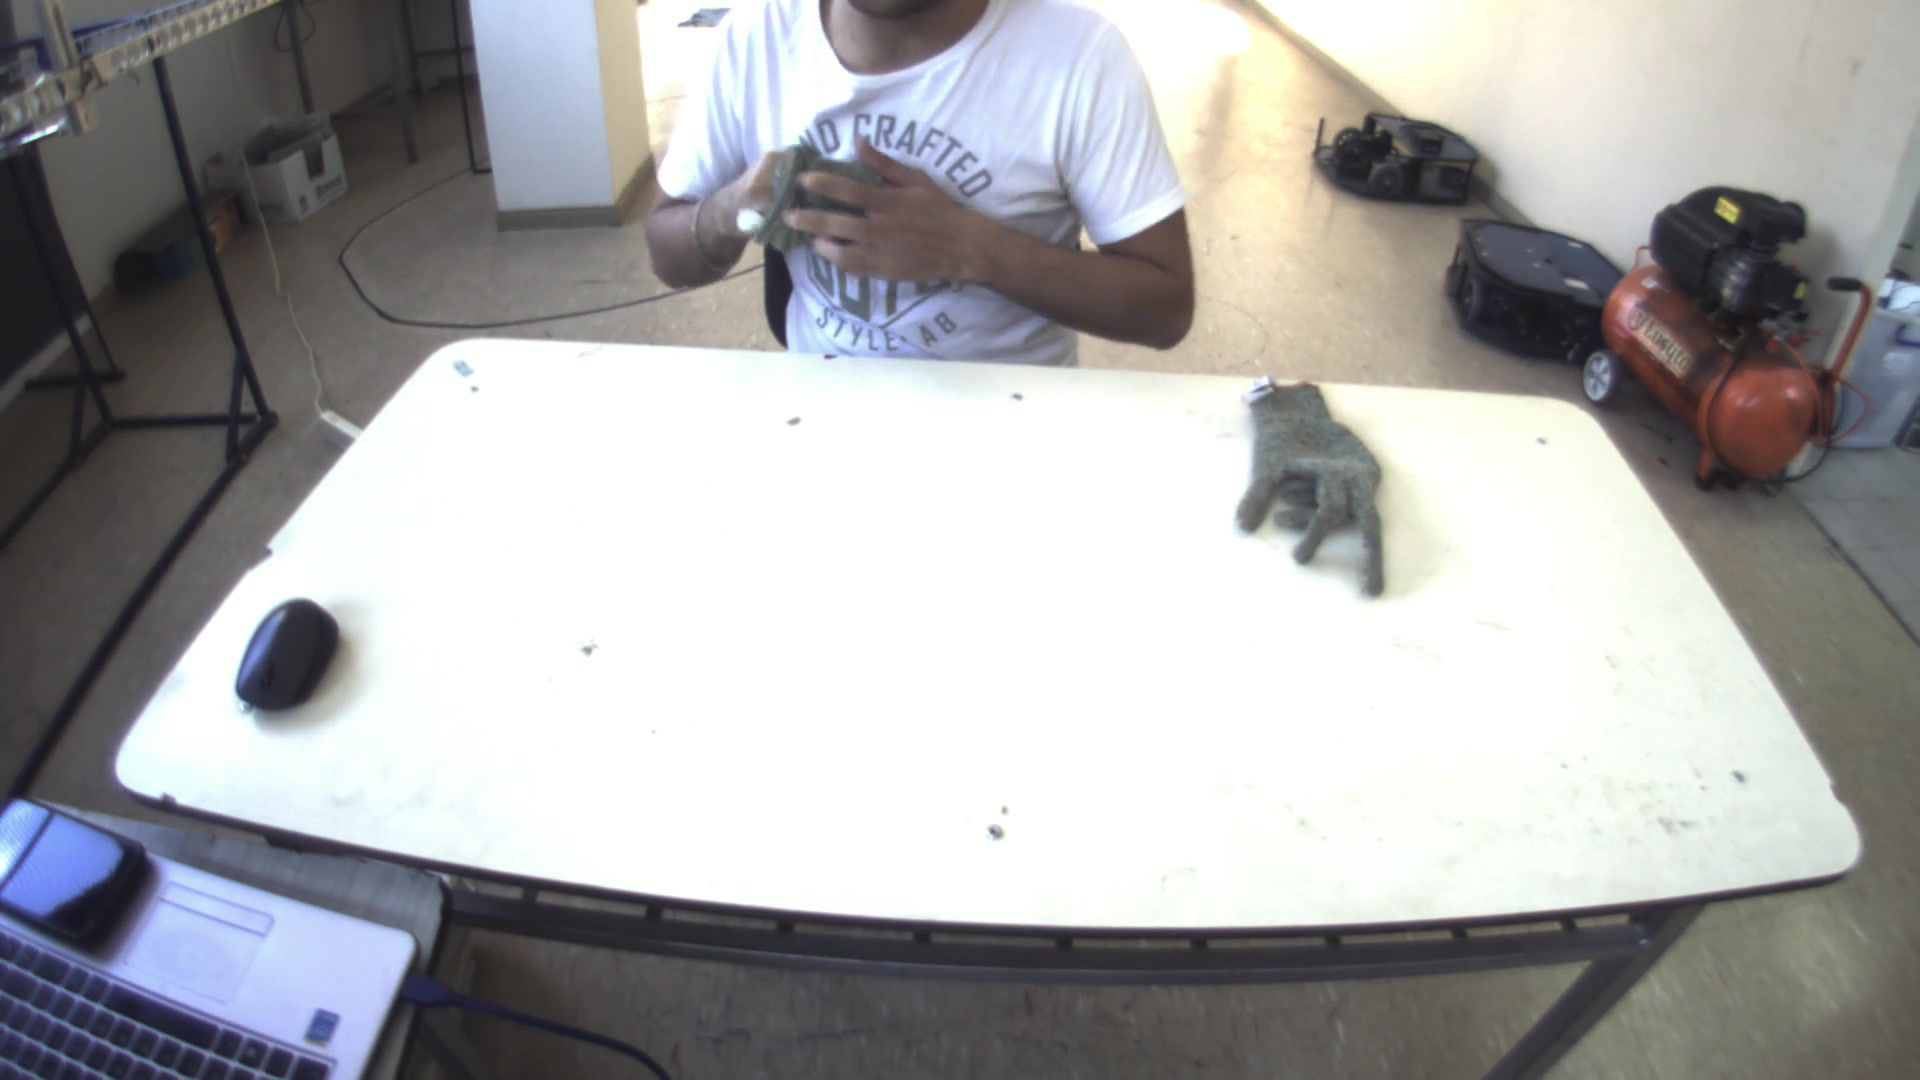hand: (794, 132, 977, 282)
